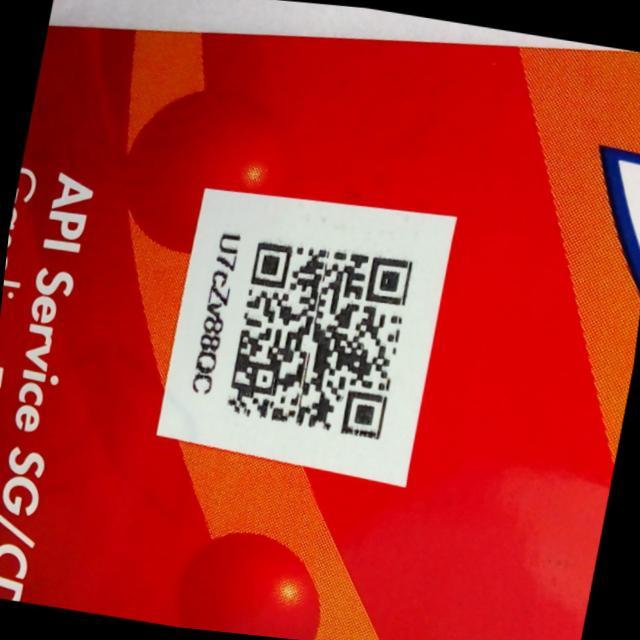QRCode: (213, 226, 425, 453)
